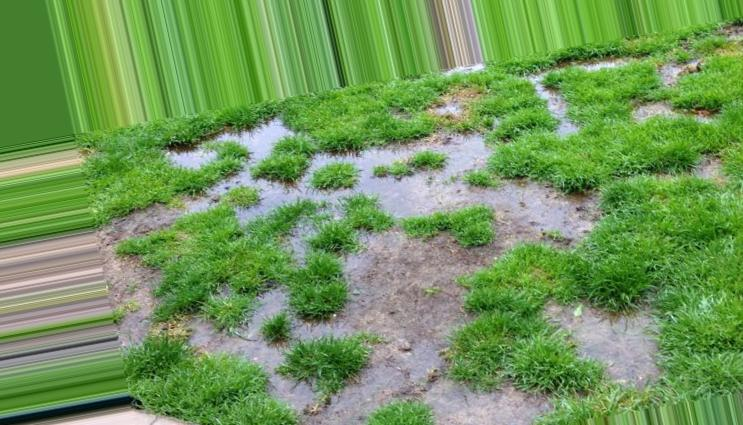patch: (374, 233, 485, 366), (578, 317, 659, 390), (376, 173, 467, 214), (245, 182, 300, 212), (243, 132, 280, 155), (254, 294, 291, 317)
